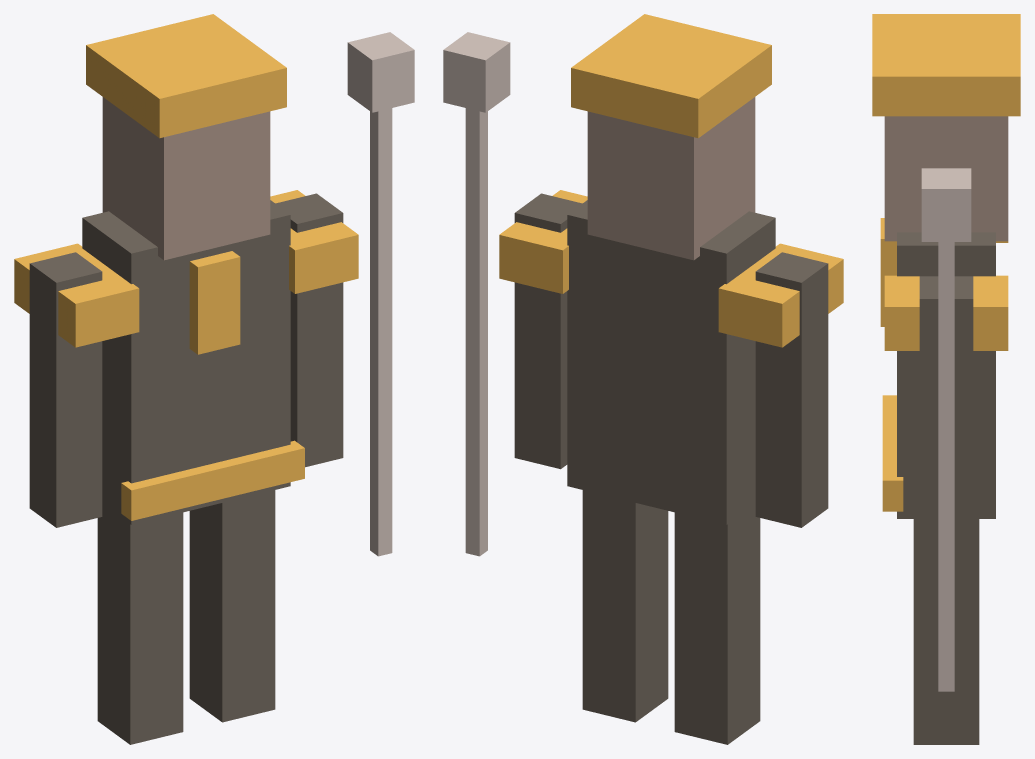
Rendered from 08_thorne_wayfare_keeper_from_containment.glb.
The picture shows the model from 3 angles, left to right: view 1: azimuth 30°, elevation 25°; view 2: azimuth 150°, elevation 25°; view 3: azimuth 270°, elevation 25°; orthographic projection.
Parts seen in each view (by area): view 1: Thorne Wayfare, Keeper from Containment; view 2: Thorne Wayfare, Keeper from Containment; view 3: Thorne Wayfare, Keeper from Containment.
Part boxes in pixels (box(x1,y1,x2,y2)): Thorne Wayfare, Keeper from Containment: box(14, 14, 414, 744); Thorne Wayfare, Keeper from Containment: box(443, 14, 843, 744); Thorne Wayfare, Keeper from Containment: box(872, 14, 1020, 744).
Bounding box in the file's own units: 0.9512 × 1.67 × 0.3374.
